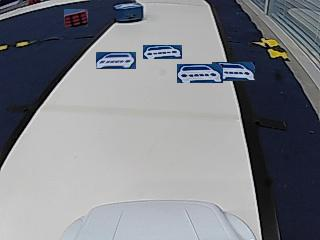prop: (115, 3, 143, 23)
